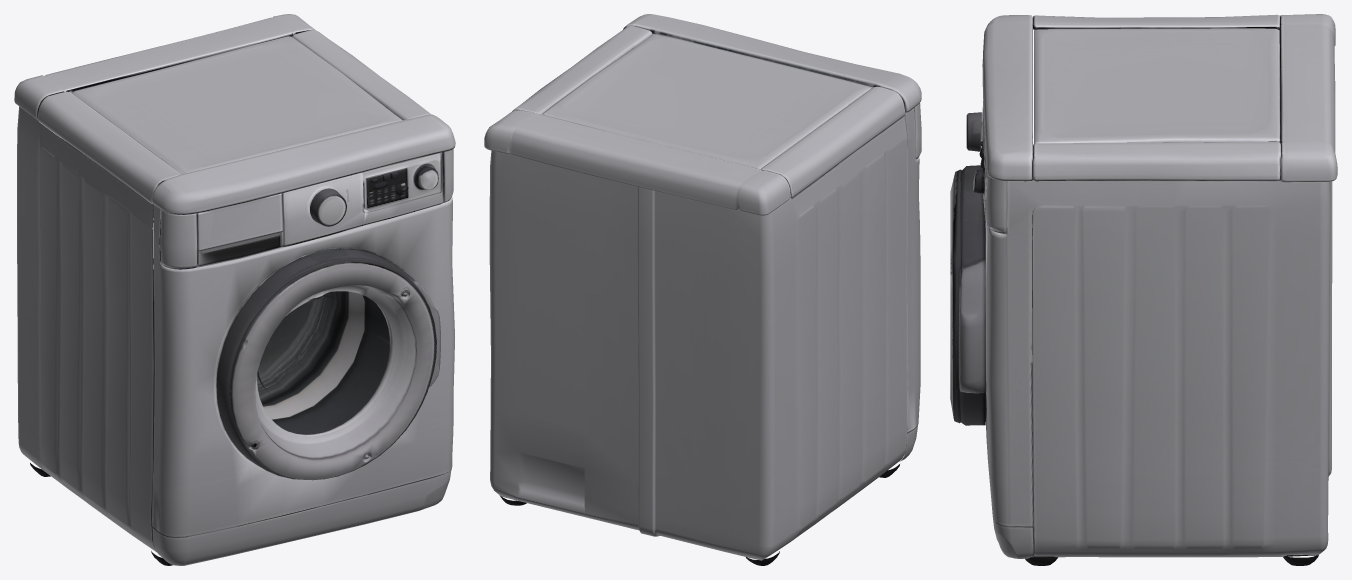
File: toonstudio_washing_machine.glb
The picture shows the model from 3 angles, left to right: view 1: azimuth 30°, elevation 25°; view 2: azimuth 150°, elevation 25°; view 3: azimuth 270°, elevation 25°; orthographic projection. The views are drawn at different scales.
Parts seen in each view (by area): view 1: tripo_9e54292d_aa1b_450b_a212_226e156845d4; view 2: tripo_9e54292d_aa1b_450b_a212_226e156845d4; view 3: tripo_9e54292d_aa1b_450b_a212_226e156845d4.
Part boxes in pixels (x1,y1,x2,y2): tripo_9e54292d_aa1b_450b_a212_226e156845d4: (14, 14, 455, 565); tripo_9e54292d_aa1b_450b_a212_226e156845d4: (484, 14, 921, 565); tripo_9e54292d_aa1b_450b_a212_226e156845d4: (950, 14, 1337, 565).
Size of the model in its own units: 0.6714 by 0.85 by 0.7155.
1 material, 1 textured.
